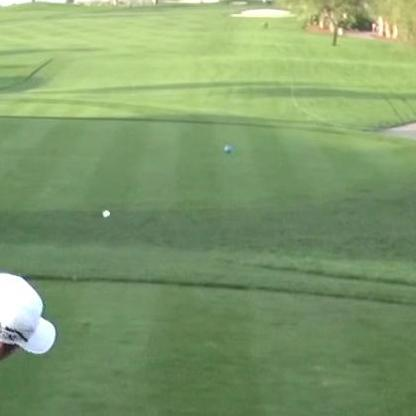golfball: (99, 208, 107, 218)
